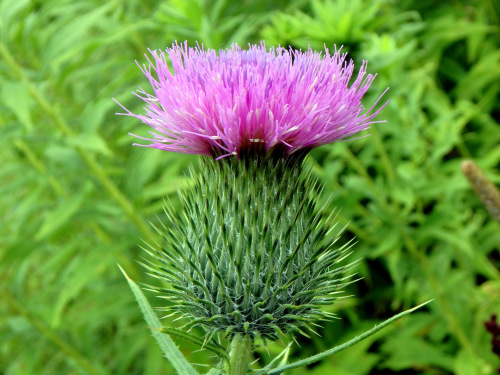thistle: (124, 35, 369, 328)
